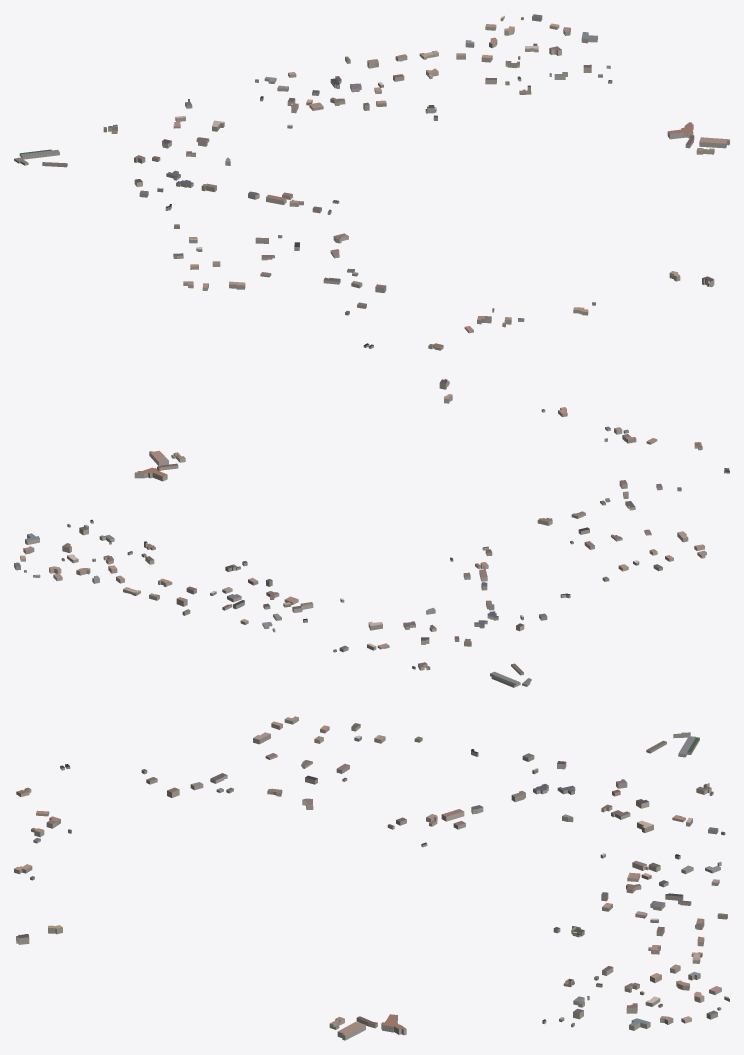
The picture shows the model from 3 angles, top to bottom: view 1: azimuth 30°, elevation 25°; view 2: azimuth 150°, elevation 25°; view 3: azimuth 270°, elevation 25°; orthographic projection. The views are drawn at different scales.
Visible parts, largest first — view 1: tuile; view 2: tuile; view 3: tuile.
Boxes of the visible parts, x1,y1,x2,y2 form: tuile: (14, 14, 729, 350); tuile: (14, 379, 729, 687); tuile: (14, 716, 729, 1040).
Size of the model in its own units: 1010 by 36.88 by 999.
